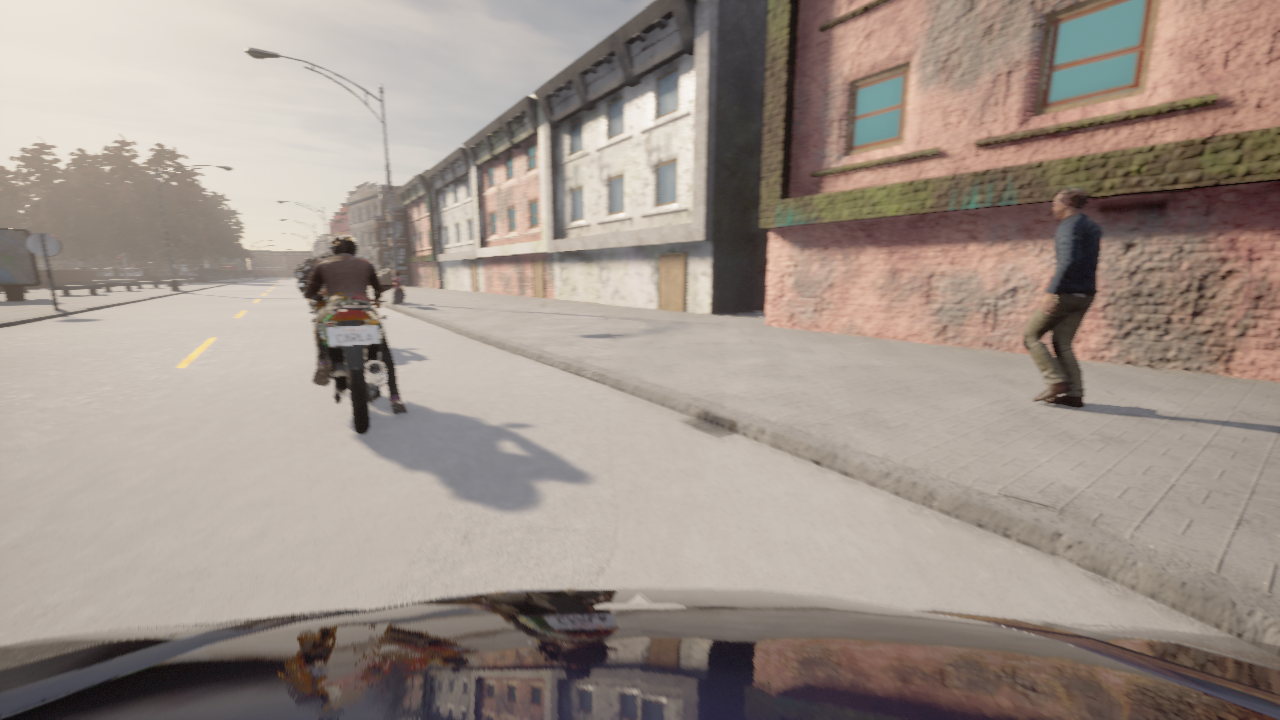cyclist: (0, 588, 1279, 719), (296, 284, 394, 434), (296, 272, 315, 313), (301, 280, 326, 299), (300, 282, 302, 292)
pedestrian: (1022, 187, 1103, 408), (393, 271, 406, 307)
